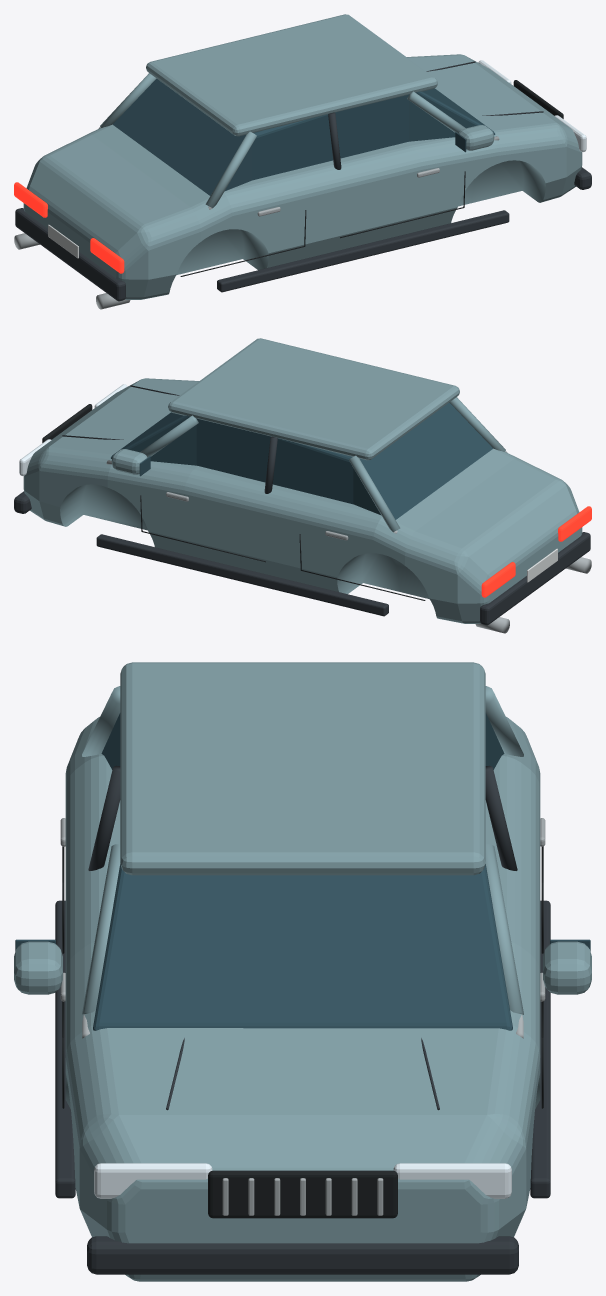
Rendered from SM_Compact.fbx.
The picture shows the model from 3 angles, top to bottom: view 1: azimuth 30°, elevation 25°; view 2: azimuth 150°, elevation 25°; view 3: azimuth 270°, elevation 25°; orthographic projection. The views are drawn at different scales.
Visible parts, largest first — view 1: SM_Compact; view 2: SM_Compact; view 3: SM_Compact.
Boxes of the visible parts, x1,y1,x2,y2 form: SM_Compact: (14, 14, 591, 309); SM_Compact: (14, 338, 591, 633); SM_Compact: (14, 662, 591, 1281).
Size of the model in its own units: 410 by 213 by 123.
